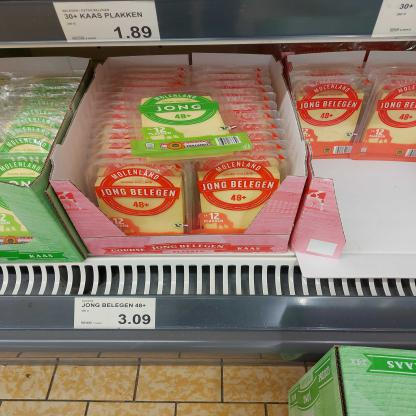prtg: (53, 1, 162, 44), (75, 298, 157, 330), (372, 1, 416, 39)
